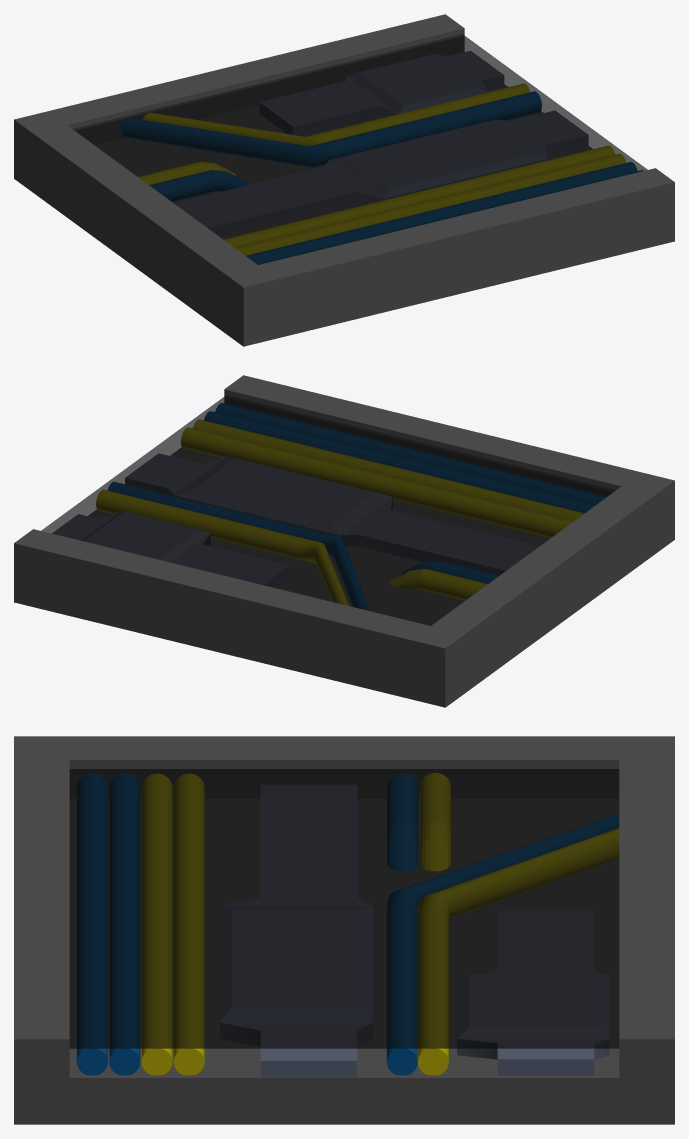
Rendered from ModularTile1_Right.fbx.
3 views of the same model, one above another, from view 1: azimuth 30°, elevation 25°; view 2: azimuth 150°, elevation 25°; view 3: azimuth 270°, elevation 25° (orthographic). The views are drawn at different scales.
Parts seen in each view (by area): view 1: polySurface25; view 2: polySurface25; view 3: polySurface25.
Part boxes in pixels (x1,y1,x2,y2): polySurface25: (14,14,674,346); polySurface25: (14,375,674,707); polySurface25: (14,736,674,1124).
Size of the model in its own units: 7.42 by 0.9734 by 6.84.
